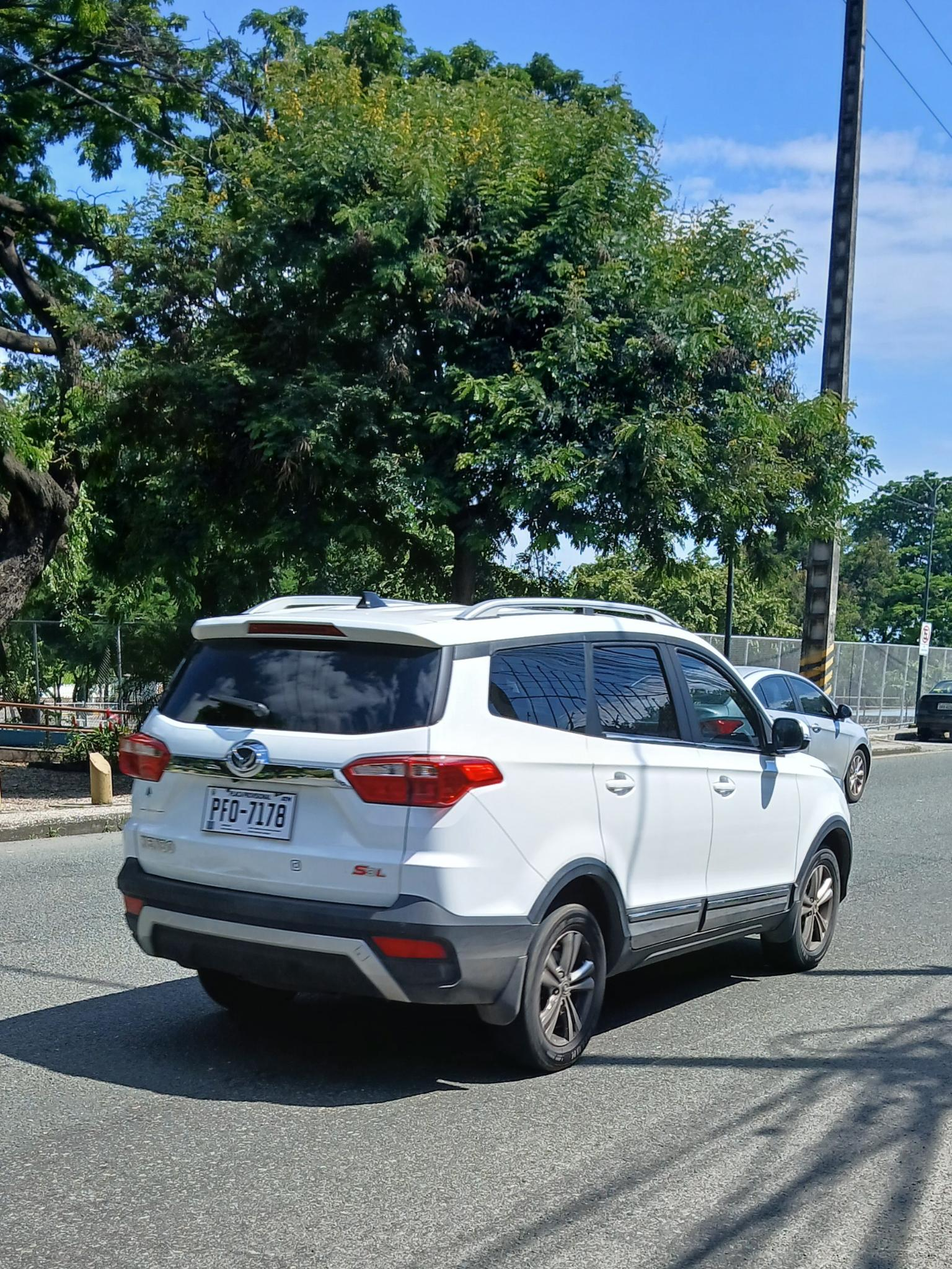license_plate: (200, 786, 295, 841), (937, 702, 952, 709)
